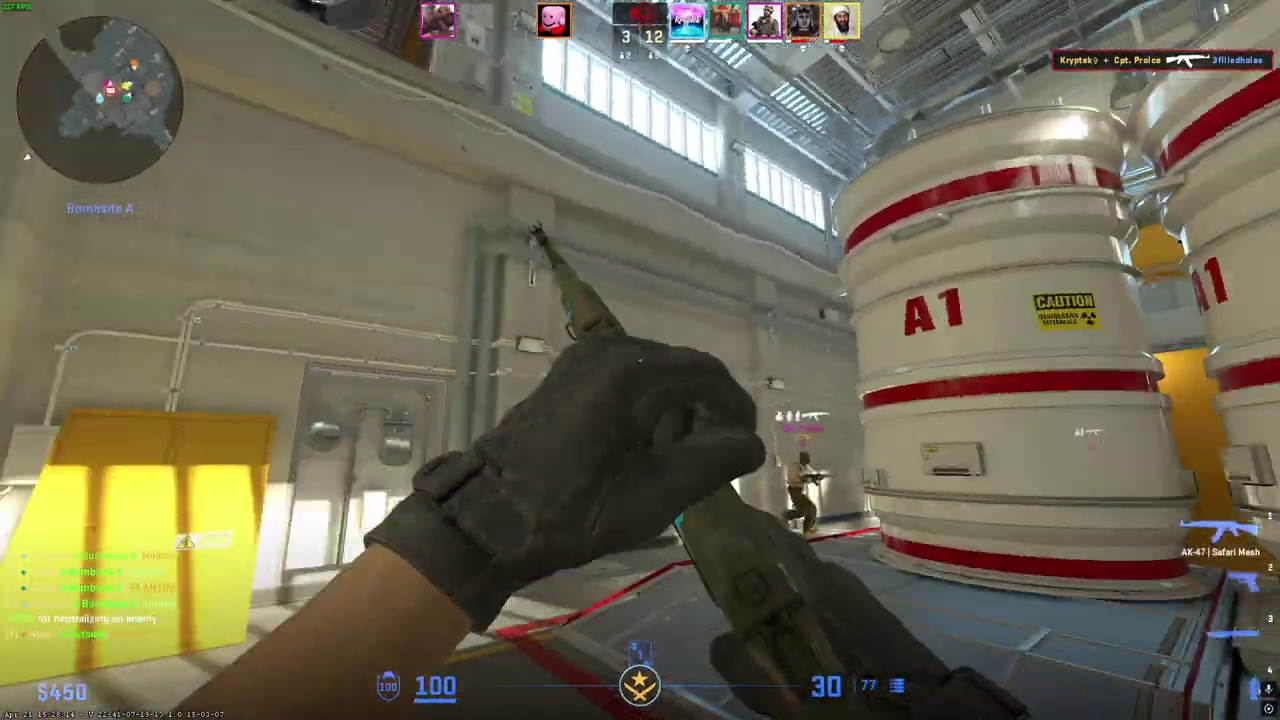Terrorist: (781, 450, 823, 535)
